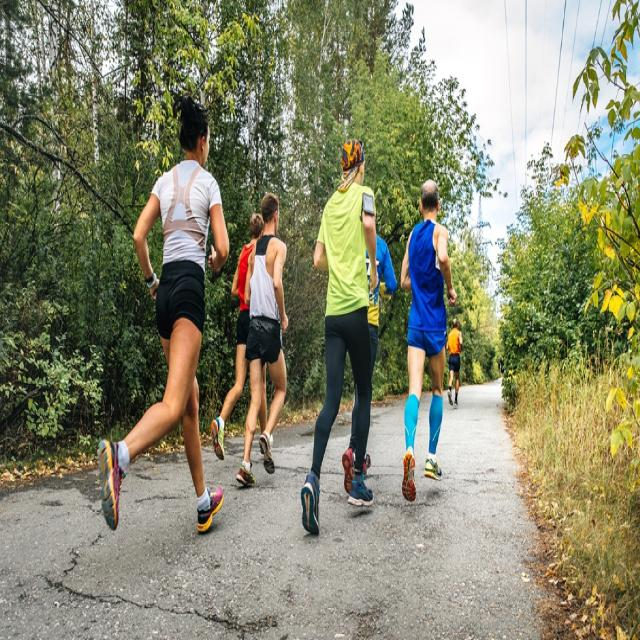body: (96, 90, 232, 535), (299, 135, 380, 535), (399, 176, 458, 504), (233, 191, 290, 489), (209, 210, 274, 462), (340, 231, 398, 494), (445, 317, 463, 410)
